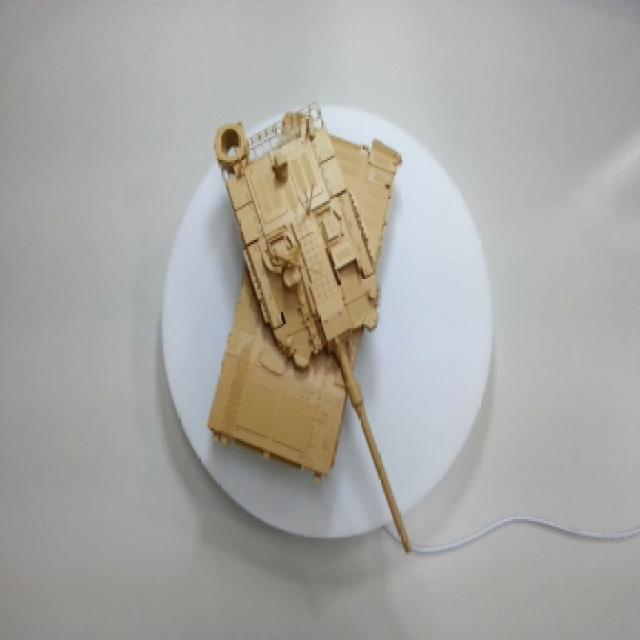korea tank: (162, 72, 464, 572)
